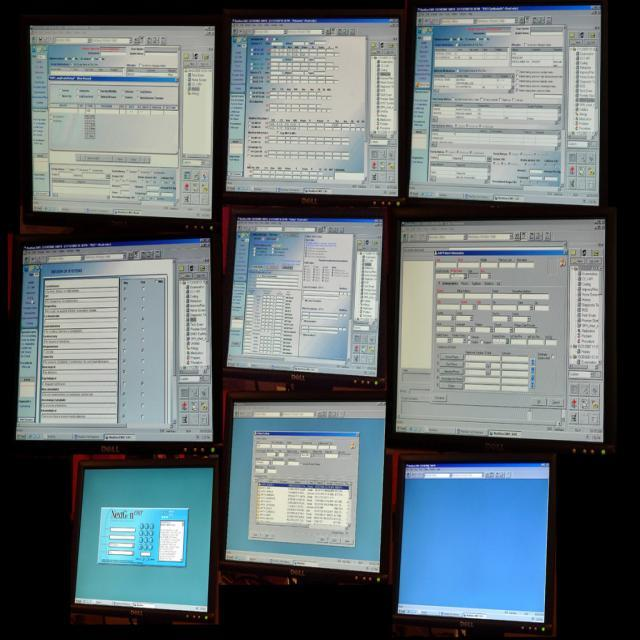others: (6, 6, 634, 625)
